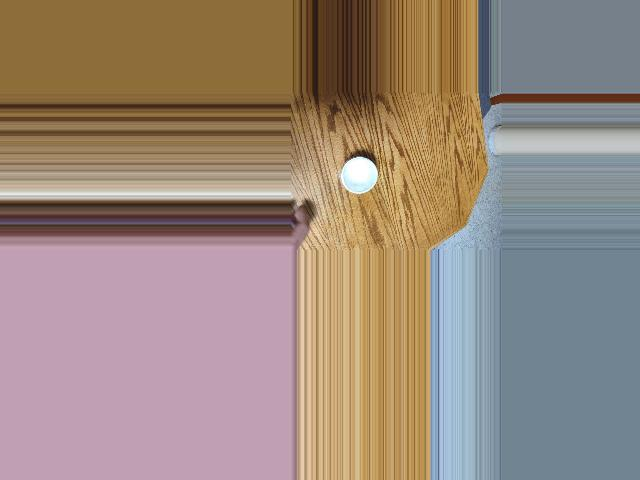cotage: (337, 157, 378, 197)
